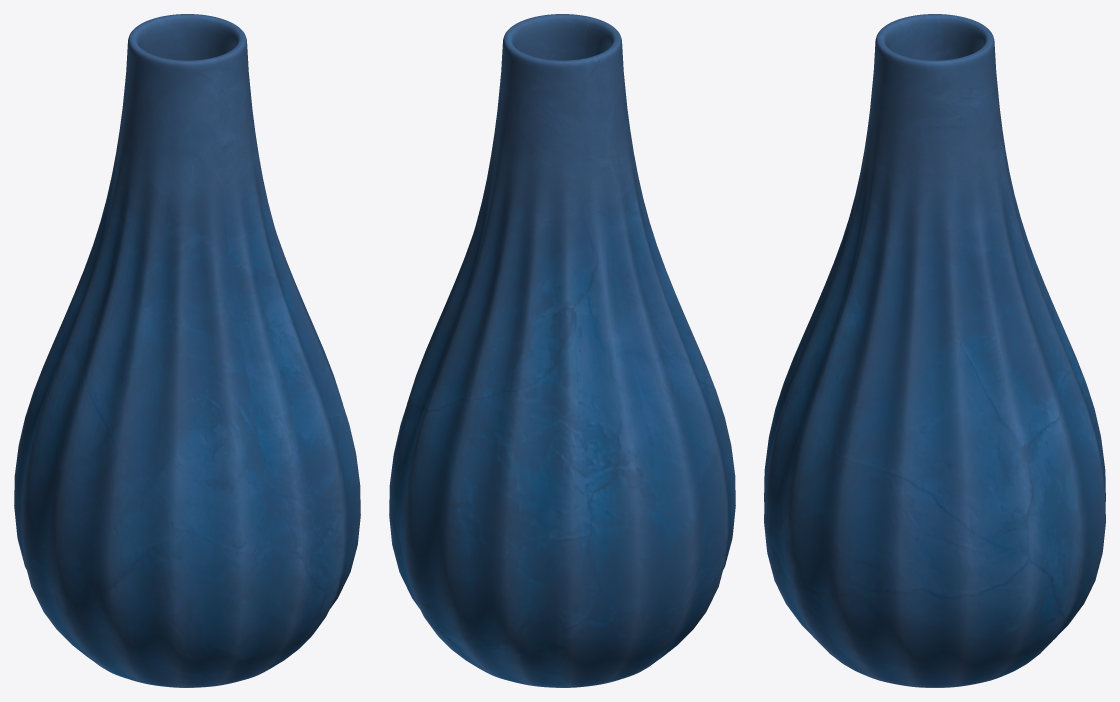
The model's file is Decorative Vase.fbx.
3 renders of one model, left to right at view 1: azimuth 30°, elevation 25°; view 2: azimuth 150°, elevation 25°; view 3: azimuth 270°, elevation 25°, orthographic.
Parts seen in each view (by area): view 1: blue_vase; view 2: blue_vase; view 3: blue_vase.
Boxes of the visible parts, x1,y1,x2,y2 form: blue_vase: (14,14,360,687); blue_vase: (389,14,735,687); blue_vase: (764,14,1105,687).
Size of the model in its own units: 16.53 by 32.6 by 16.53.
1 material, 1 textured.
